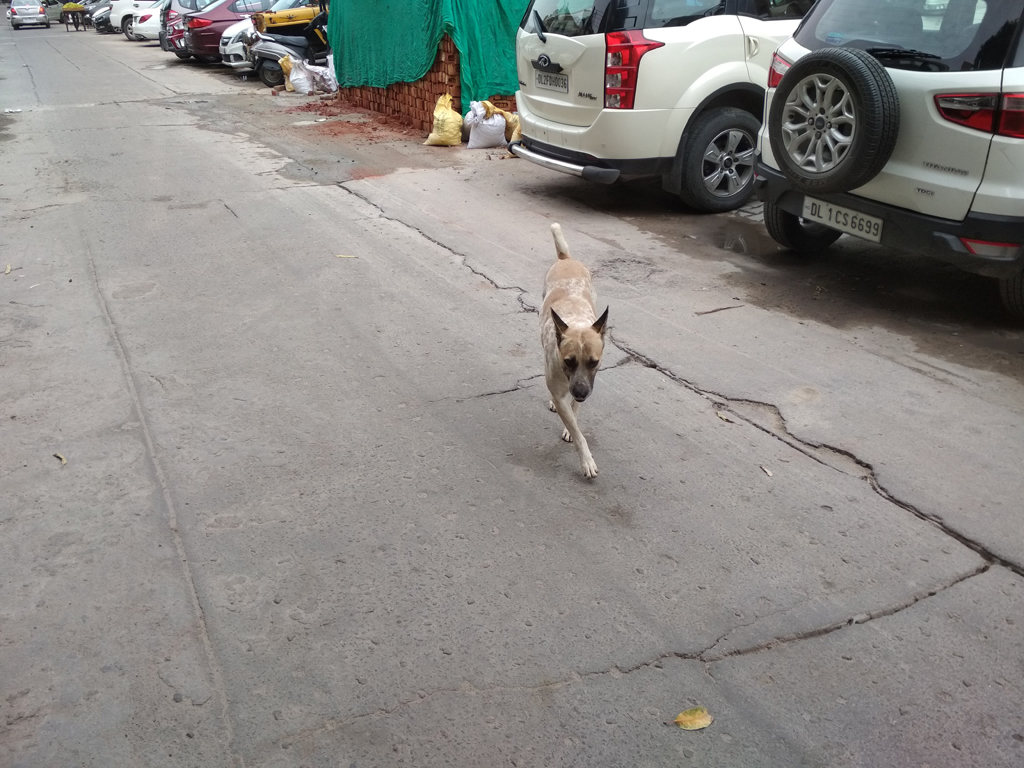dog: (538, 223, 610, 476)
